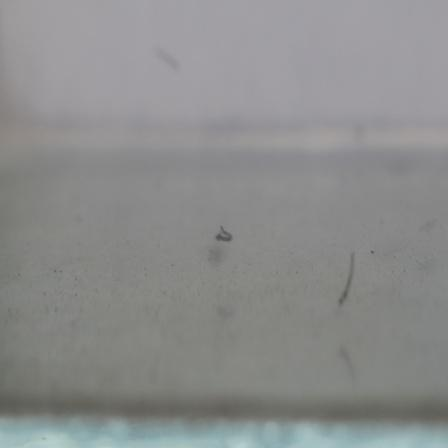Jentik-Nyamuk: (332, 251, 360, 309), (210, 221, 236, 249)
